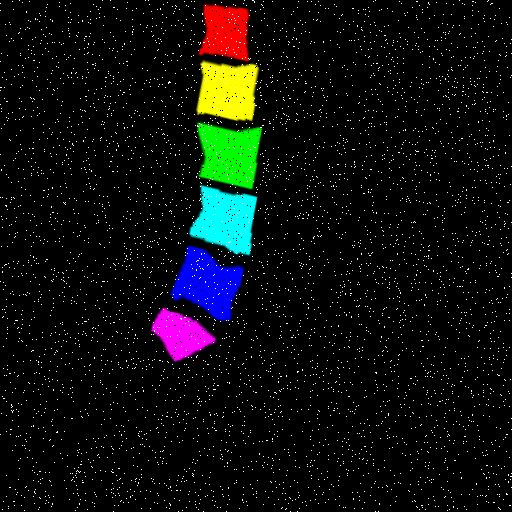L1: (198, 6, 247, 62)
L2: (195, 64, 255, 121)
L3: (196, 124, 259, 190)
L4: (187, 187, 255, 254)
L5: (169, 247, 240, 321)
S1: (147, 310, 211, 361)
